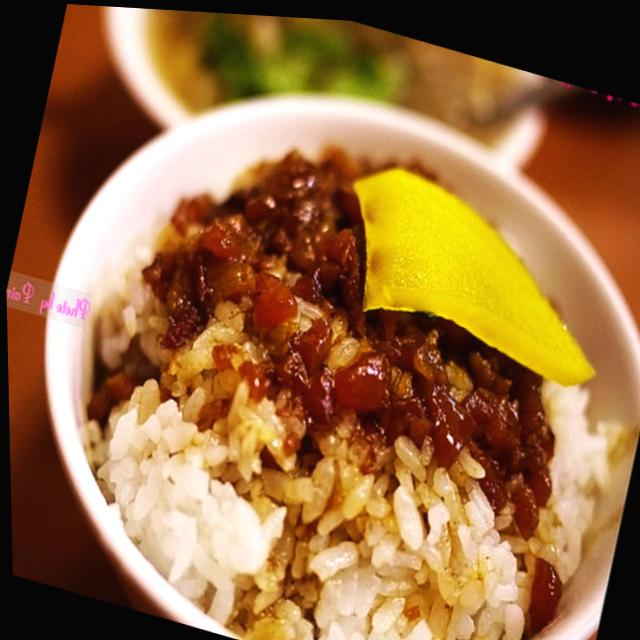猪肉菜式: (1, 46, 640, 640)
